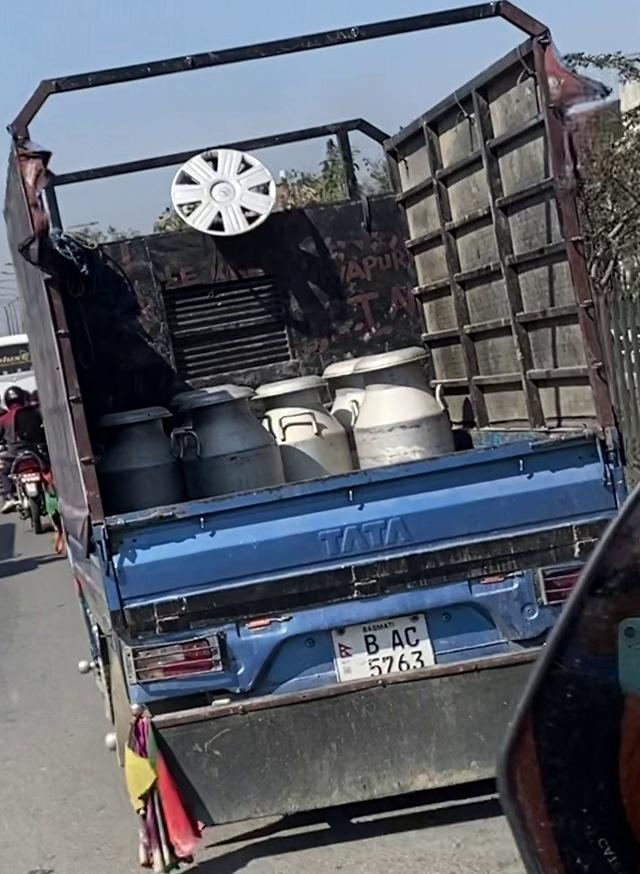license-plate: (308, 613, 448, 690)
